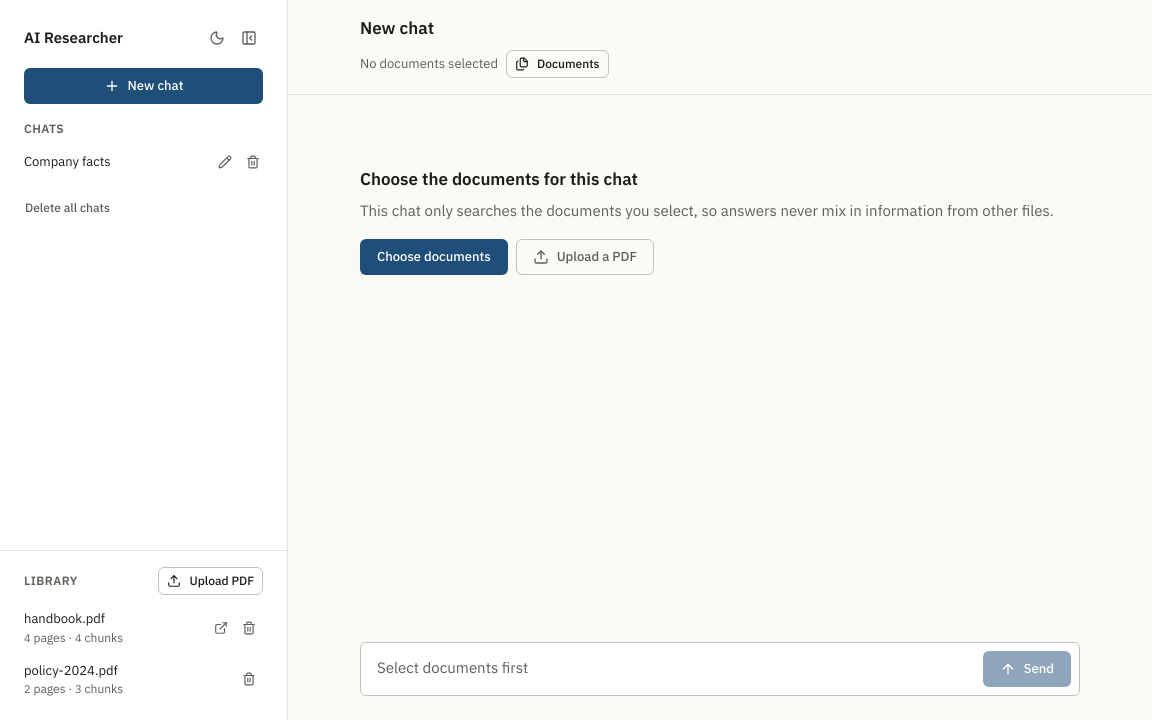
Test case: ChatView › shows a 'not found' answer in its own style
This screenshot has width=1152, height=720.
Click the button "Company facts": [112, 162] box [16,146,207,178]
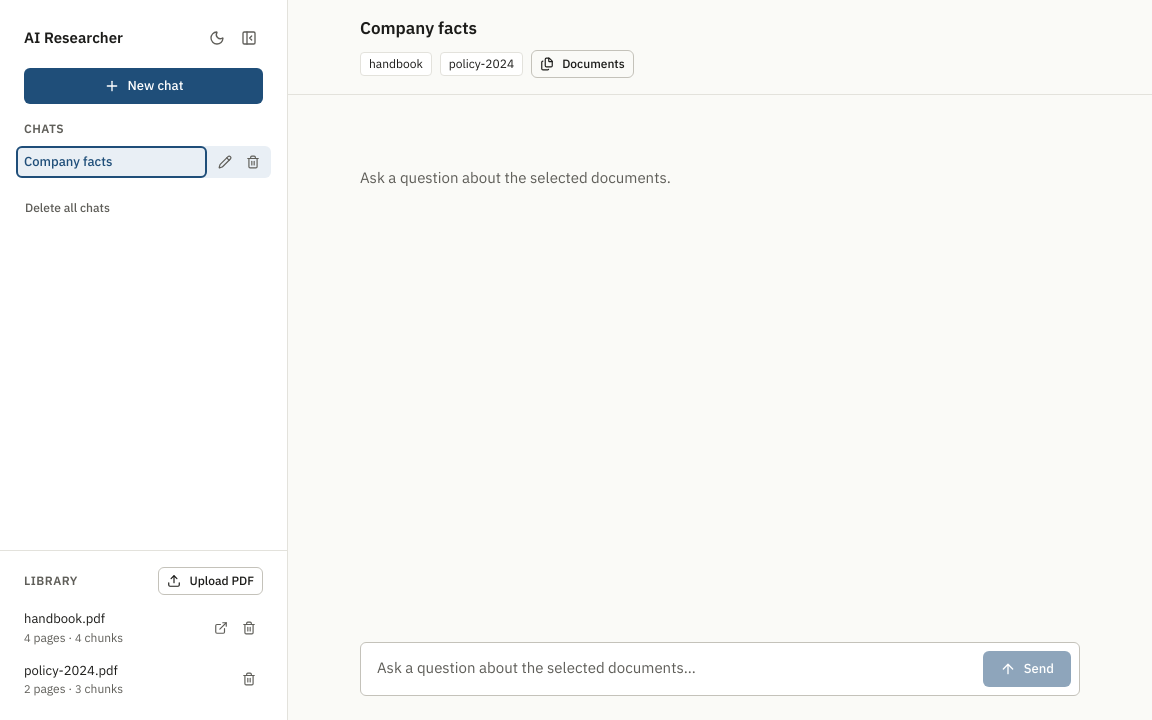
Result: the heading "Company facts" is shown at [360,16,477,42]
In the text box labelled "question": [672, 669] box [369,651,975,687], type "What's the weather?"
Then press Enter
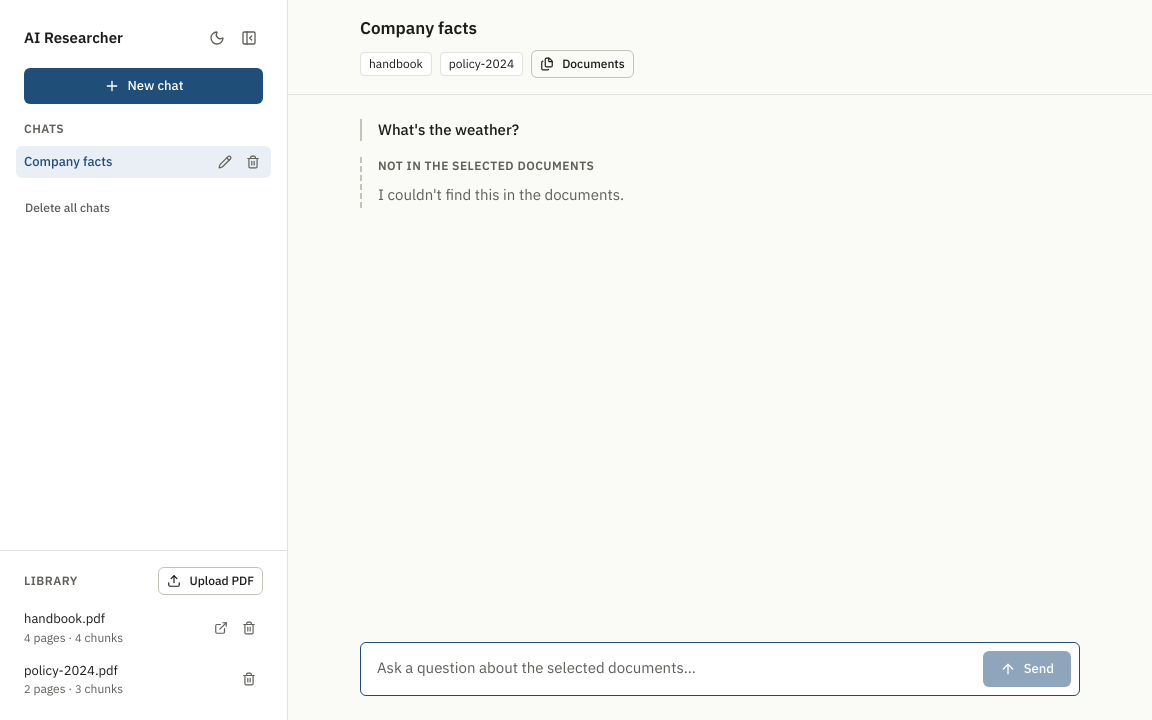
Result: the element with test id "answer" shows "Not in the selected documents" at [378,158,594,173]
